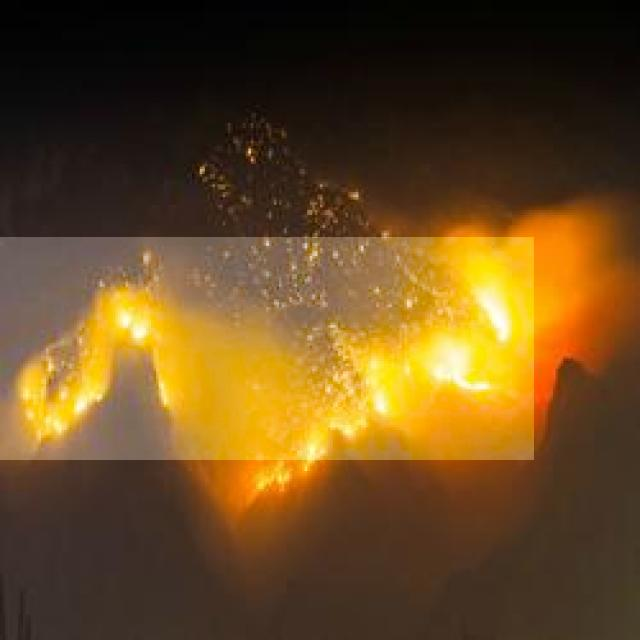Fire: (0, 237, 534, 460)
